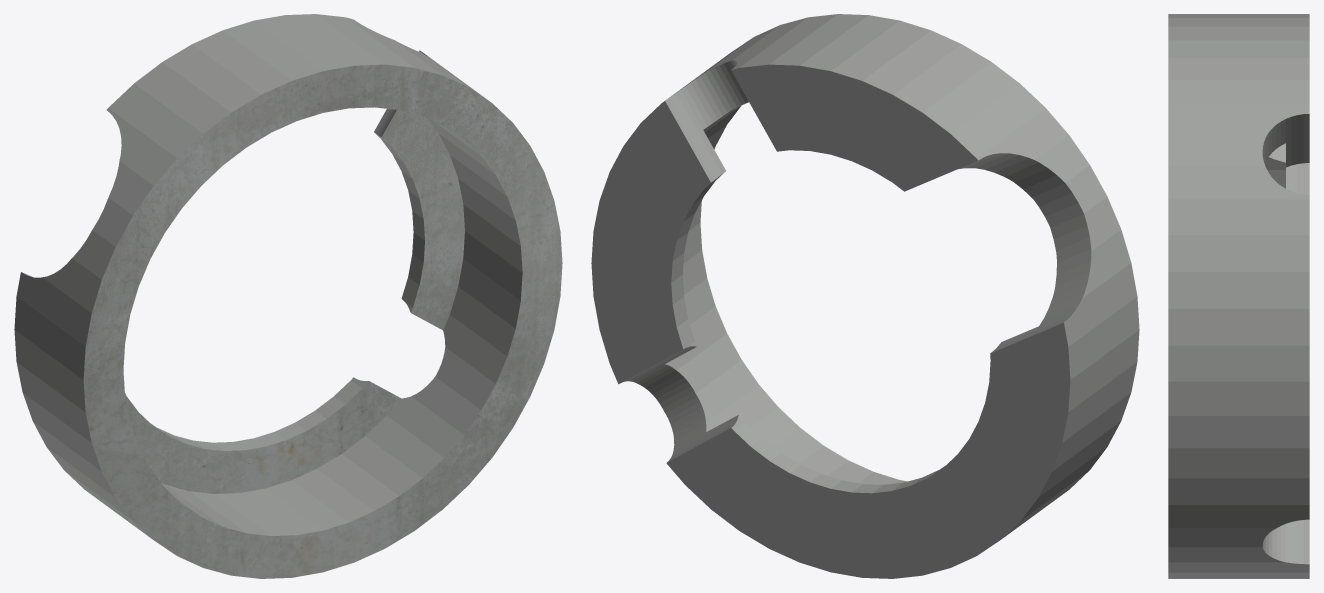
The model's file is pool_039.obj.
3 renders of one model, left to right at view 1: azimuth 30°, elevation 25°; view 2: azimuth 150°, elevation 25°; view 3: azimuth 270°, elevation 25°, orthographic. The views are drawn at different scales.
Size of the model in its own units: 12 by 12 by 3.
